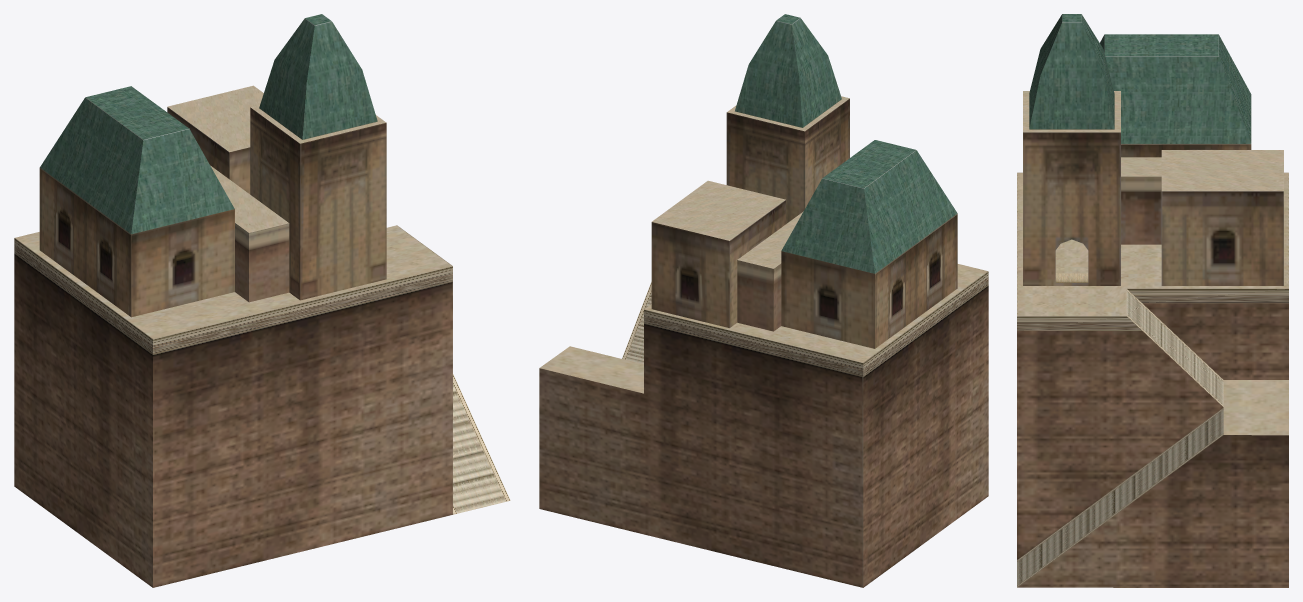
File: ply_nboo_house_sm_s02_fp1_r0_mesh_l3.fbx
The picture shows the model from 3 angles, left to right: view 1: azimuth 30°, elevation 25°; view 2: azimuth 150°, elevation 25°; view 3: azimuth 270°, elevation 25°; orthographic projection. The views are drawn at different scales.
Parts seen in each view (by area): view 1: mesh_node; view 2: mesh_node; view 3: mesh_node.
Part boxes in pixels (bbox=[...]): mesh_node: bbox=[14, 14, 510, 587]; mesh_node: bbox=[539, 14, 988, 587]; mesh_node: bbox=[1017, 14, 1288, 587].
Size of the model in its own units: 24.87 by 33.22 by 16.67.
